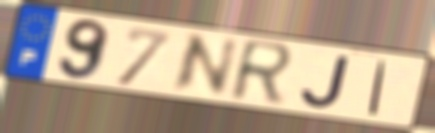7: (119, 25, 174, 88)
9: (57, 18, 114, 84)
I: (365, 58, 391, 118)
J: (298, 52, 354, 110)
N: (167, 32, 242, 97)
R: (227, 36, 299, 109)
